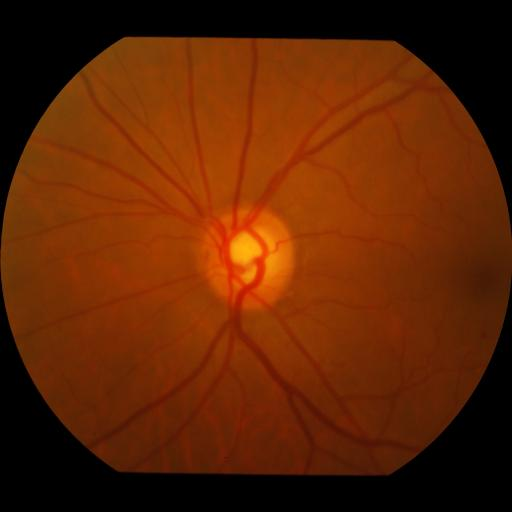Optic Cup: (226, 226, 277, 285)
Optic Disc: (200, 205, 295, 312)
